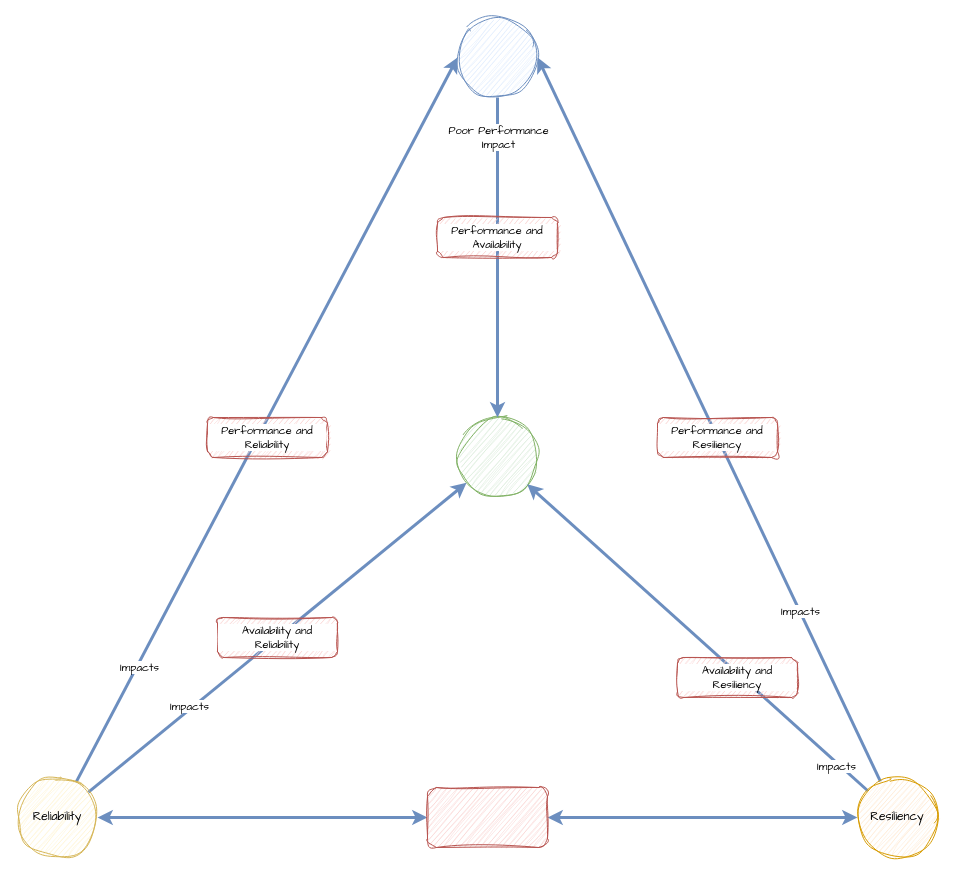
Image size: 955x875. Some labels were removed from this diagram. Each missing label, with the centre of its shape:
"Availability" goes at (x=497, y=457).
"Performance" goes at (x=497, y=57).
"Reliability and Resiliency" goes at (x=487, y=817).
